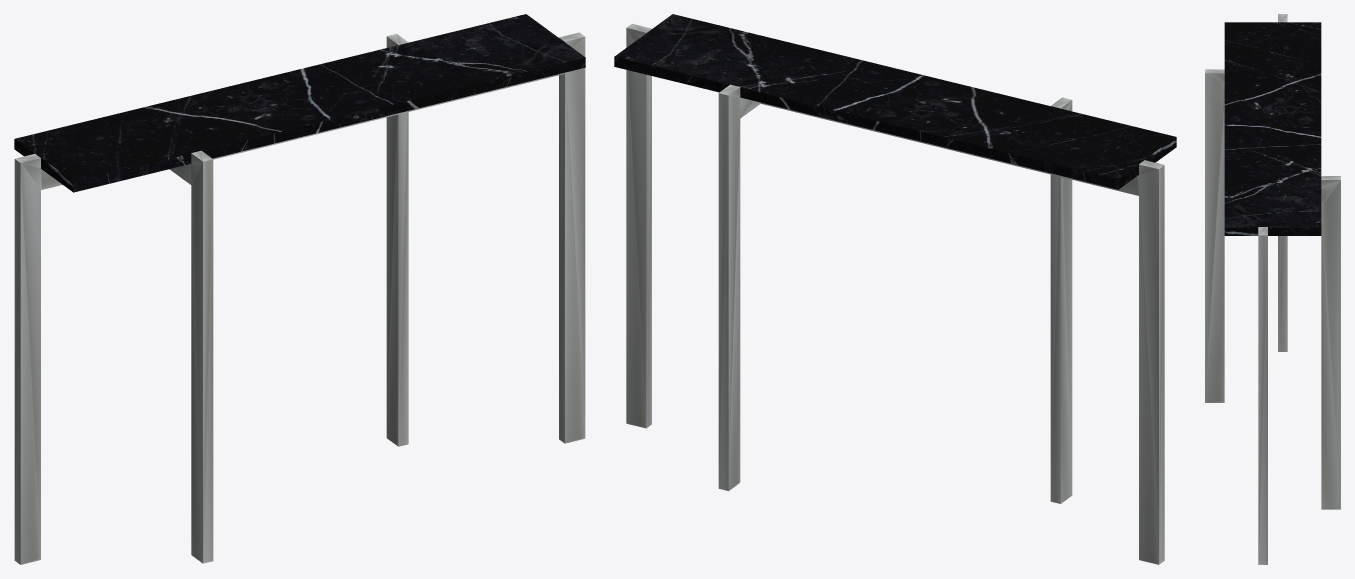
The model's file is NeroACB2B4.gltf.
3 renders of one model, left to right at view 1: azimuth 30°, elevation 25°; view 2: azimuth 150°, elevation 25°; view 3: azimuth 270°, elevation 25°, orthographic. The views are drawn at different scales.
Bounding box in the file's own units: 1.08 × 0.75 × 0.28.
Materials: 2 (2 with a texture image).
